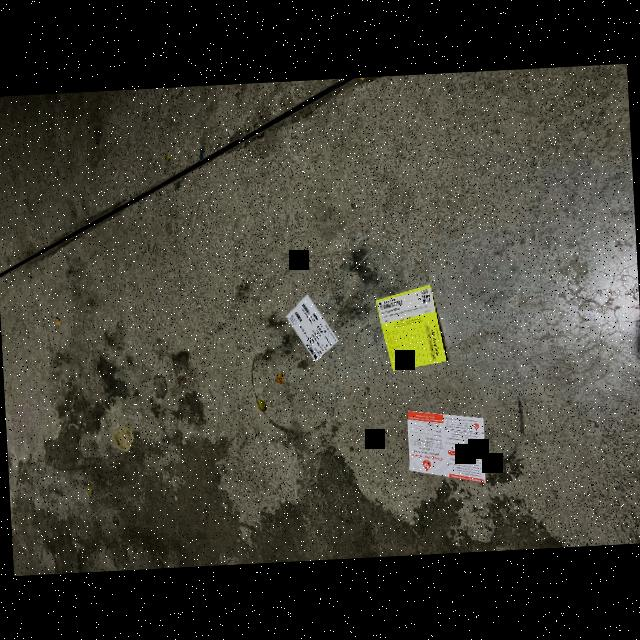scrap_paper: (402, 406, 494, 498), (370, 280, 451, 376), (272, 293, 347, 377)
